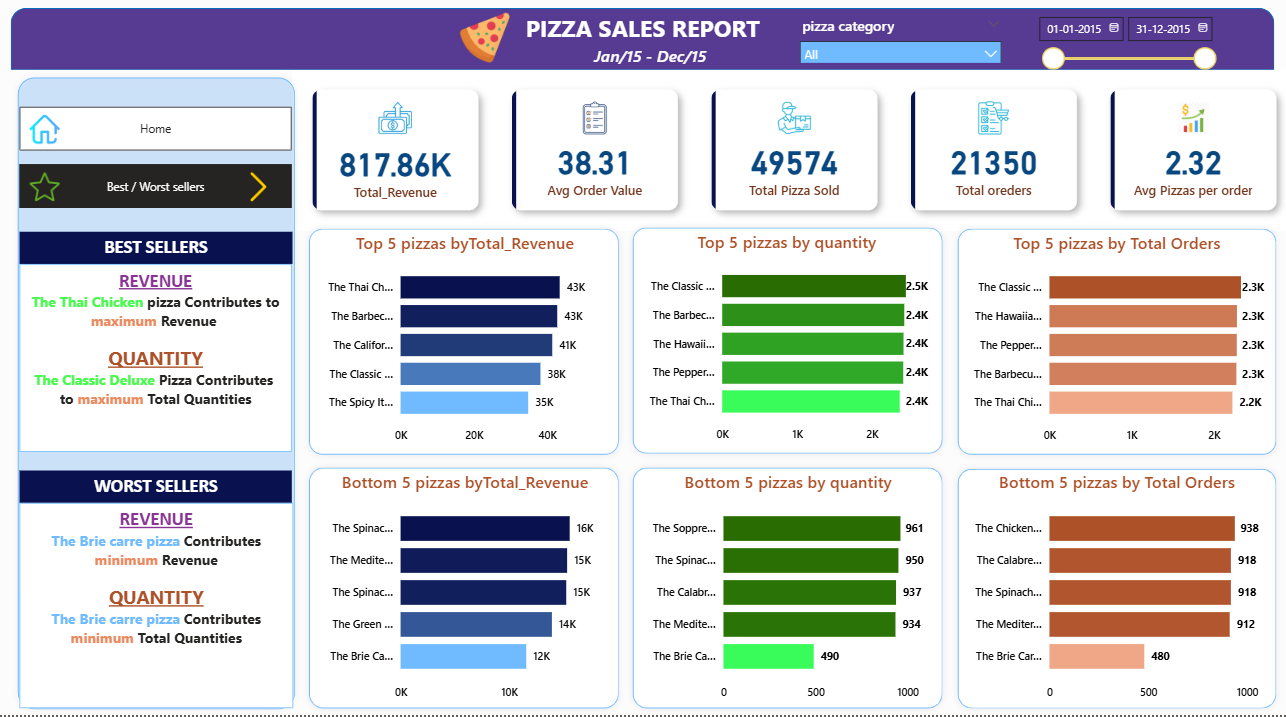

This screenshot's page, from the dashboard's own definition file:
{"tool":"powerbi","page":{"name":"Best / Worst sellers","canvas":[1500,820],"ordinal":1},"visuals":[{"type":"cardVisual","fields":{"Data":["pizza_sales.Total_Revenue","pizza_sales.Avg Order Value","pizza_sales.Total Pizza Sold","pizza_sales.Total oreders","pizza_sales.Avg Pizzas per order"]},"box":[349,82,1151.4,184.9],"z":0},{"type":"shape","box":[27.3,11.3,1444,70.8],"z":1000},{"type":"shape","box":[26.9,82.2,332.9,738.1],"z":2000},{"type":"textbox","box":[599.8,11.3,299.1,56.3],"z":3000},{"type":"textbox","box":[672.2,48.2,170.5,49.9],"z":4000},{"type":"image","box":[538.7,16.1,61.1,59.5],"z":5000},{"type":"shape","box":[360,255.7,370,274.3],"z":6000},{"type":"textbox","box":[36.8,267.8,311.7,36.8],"z":16000},{"type":"textbox","box":[37.1,304.3,311.4,214.3],"z":17000},{"type":"textbox","box":[37.1,540,311.4,37.1],"z":18000},{"type":"textbox","box":[37.1,577.1,312.9,234.3],"z":19000},{"type":"slicer","fields":{"Values":["pizza_sales.pizza_category"]},"box":[918,15.6,250.8,58.1],"z":20000},{"type":"slicer","fields":{"Values":["pizza_sales.order_date"]},"box":[1190,11.4,222.9,87.1],"z":21000},{"type":"shape","box":[730,254.3,370,274.3],"z":21001},{"type":"shape","box":[1101.4,255.7,380,274.3],"z":21002},{"type":"shape","box":[360,528.6,370,291.4],"z":21003},{"type":"shape","box":[730,528.6,370,291.4],"z":21004},{"type":"shape","box":[1101.4,530,380,290],"z":21005},{"type":"clusteredBarChart","title":"Top 5 pizzas byTotal_Revenue ","fields":{"Category":["pizza_sales.pizza_name"],"Y":["pizza_sales.Total_Revenue"]},"box":[372.9,267.1,347.1,251.4],"z":21006},{"type":"clusteredBarChart","title":"Bottom 5 pizzas byTotal_Revenue ","fields":{"Category":["pizza_sales.pizza_name"],"Y":["pizza_sales.Total_Revenue"]},"box":[372.9,540,347.1,271.4],"z":21007},{"type":"clusteredBarChart","title":"Top 5 pizzas by quantity ","fields":{"Category":["pizza_sales.pizza_name"],"Y":["pizza_sales.Total Pizza Sold"]},"box":[741.4,265.7,345.7,251.4],"z":21008},{"type":"clusteredBarChart","title":"Bottom 5 pizzas by quantity ","fields":{"Category":["pizza_sales.pizza_name"],"Y":["pizza_sales.Total Pizza Sold"]},"box":[742.9,540,345.7,271.4],"z":21009},{"type":"clusteredBarChart","title":"Top 5 pizzas by Total Orders","fields":{"Category":["pizza_sales.pizza_name"],"Y":["pizza_sales.Total oreders"]},"box":[1111.4,267.1,360,251.4],"z":21010},{"type":"clusteredBarChart","title":"Bottom 5 pizzas by Total Orders","fields":{"Category":["pizza_sales.pizza_name"],"Y":["pizza_sales.Total oreders"]},"box":[1111.4,540,360,271.4],"z":21011},{"type":"pageNavigator","box":[37.1,190,311.4,50],"z":21012},{"type":"pageNavigator","box":[37.1,124.3,311.4,50],"z":21013},{"type":"image","box":[27.1,132.9,77.1,34.3],"z":21014},{"type":"image","box":[27.1,198.6,77.1,34.3],"z":21015},{"type":"image","box":[271.4,198.6,77.1,34.3],"z":21016}]}

Visuals, with their boxes in screenshot pixels (x1, y1, x2, y2), scaled from the page's 1500x820 canvas onto the 1286x717 screenshot:
cardVisual - pizza_sales.Total_Revenue x pizza_sales.Avg Order Value: {"left": 299, "top": 72, "right": 1285, "bottom": 233}
shape: {"left": 23, "top": 10, "right": 1261, "bottom": 72}
shape: {"left": 23, "top": 72, "right": 308, "bottom": 716}
textbox: {"left": 514, "top": 10, "right": 771, "bottom": 59}
textbox: {"left": 576, "top": 42, "right": 722, "bottom": 86}
image: {"left": 462, "top": 14, "right": 514, "bottom": 66}
shape: {"left": 309, "top": 224, "right": 626, "bottom": 463}
textbox: {"left": 32, "top": 234, "right": 299, "bottom": 266}
textbox: {"left": 32, "top": 266, "right": 299, "bottom": 453}
textbox: {"left": 32, "top": 472, "right": 299, "bottom": 505}
textbox: {"left": 32, "top": 505, "right": 300, "bottom": 709}
slicer - pizza_sales.pizza_category: {"left": 787, "top": 14, "right": 1002, "bottom": 64}
slicer - pizza_sales.order_date: {"left": 1020, "top": 10, "right": 1211, "bottom": 86}
shape: {"left": 626, "top": 222, "right": 943, "bottom": 462}
shape: {"left": 944, "top": 224, "right": 1270, "bottom": 463}
shape: {"left": 309, "top": 462, "right": 626, "bottom": 716}
shape: {"left": 626, "top": 462, "right": 943, "bottom": 716}
shape: {"left": 944, "top": 463, "right": 1270, "bottom": 716}
"Top 5 pizzas byTotal_Revenue " clusteredBarChart: {"left": 320, "top": 234, "right": 617, "bottom": 453}
"Bottom 5 pizzas byTotal_Revenue " clusteredBarChart: {"left": 320, "top": 472, "right": 617, "bottom": 709}
"Top 5 pizzas by quantity " clusteredBarChart: {"left": 636, "top": 232, "right": 932, "bottom": 452}
"Bottom 5 pizzas by quantity " clusteredBarChart: {"left": 637, "top": 472, "right": 933, "bottom": 709}
"Top 5 pizzas by Total Orders" clusteredBarChart: {"left": 953, "top": 234, "right": 1261, "bottom": 453}
"Bottom 5 pizzas by Total Orders" clusteredBarChart: {"left": 953, "top": 472, "right": 1261, "bottom": 709}
pageNavigator: {"left": 32, "top": 166, "right": 299, "bottom": 210}
pageNavigator: {"left": 32, "top": 109, "right": 299, "bottom": 152}
image: {"left": 23, "top": 116, "right": 89, "bottom": 146}
image: {"left": 23, "top": 174, "right": 89, "bottom": 204}
image: {"left": 233, "top": 174, "right": 299, "bottom": 204}
